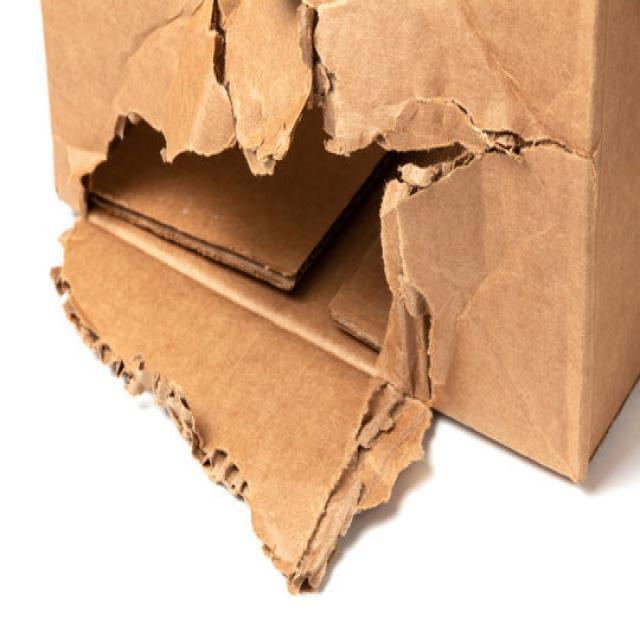damaged: (85, 3, 559, 455)
